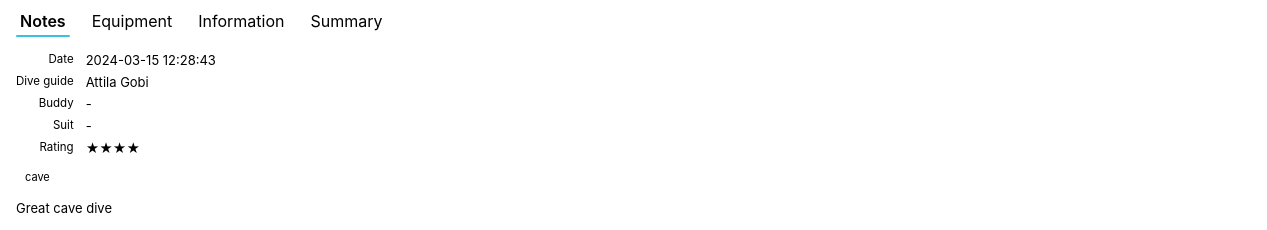
Test: InfoPanel › switches to Equipment and shows the cylinder
Click the tab "Equipment" at [132, 21], box [80, 6, 184, 36]
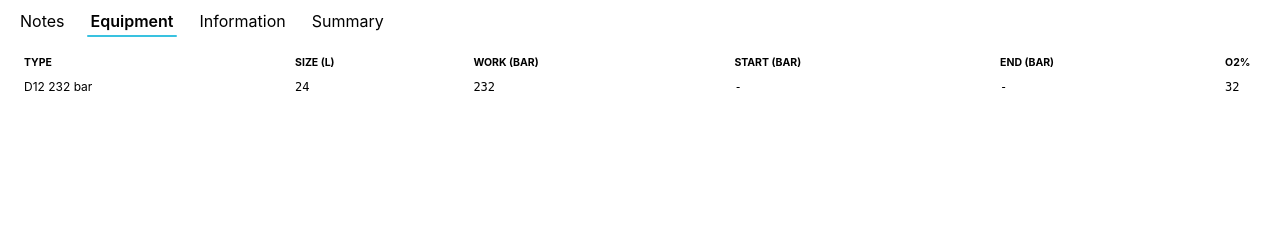
Check: the text "D12 232 bar" is shown, box [16, 73, 287, 100]
